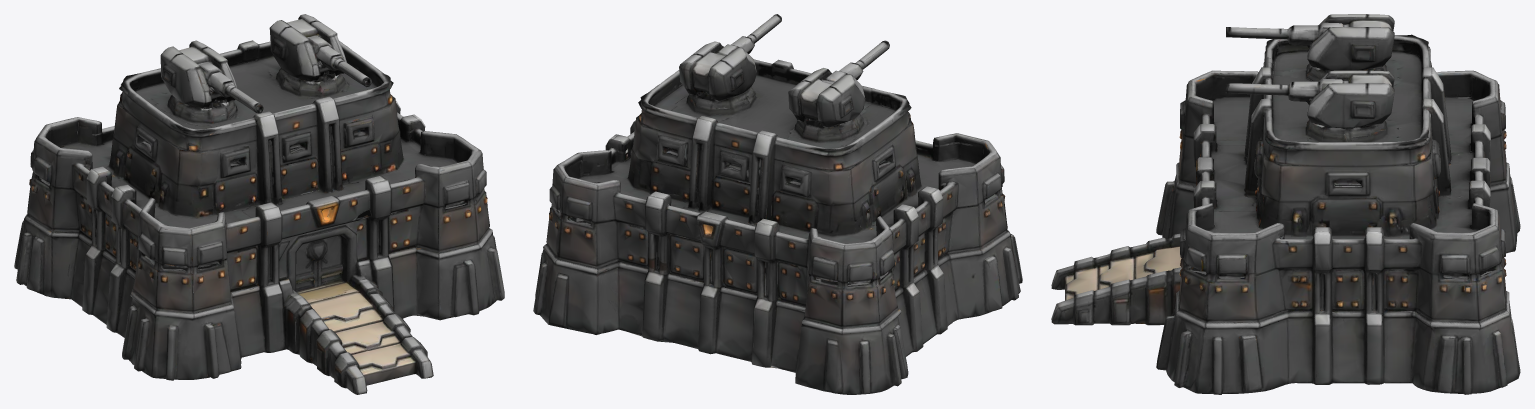
The model's file is bastion.glb.
3 views of the same model, side by side, from view 1: azimuth 30°, elevation 25°; view 2: azimuth 150°, elevation 25°; view 3: azimuth 270°, elevation 25° (orthographic). The views are drawn at different scales.
Visible parts, largest first — view 1: Mesh1.0; view 2: Mesh1.0; view 3: Mesh1.0.
Part boxes in pixels (x1,y1,x2,y2): Mesh1.0: [14, 14, 504, 394]; Mesh1.0: [533, 14, 1022, 394]; Mesh1.0: [1051, 14, 1520, 394].
Size of the model in its own units: 1.82 by 1.15 by 1.91.
Materials: 1 (1 with a texture image).
